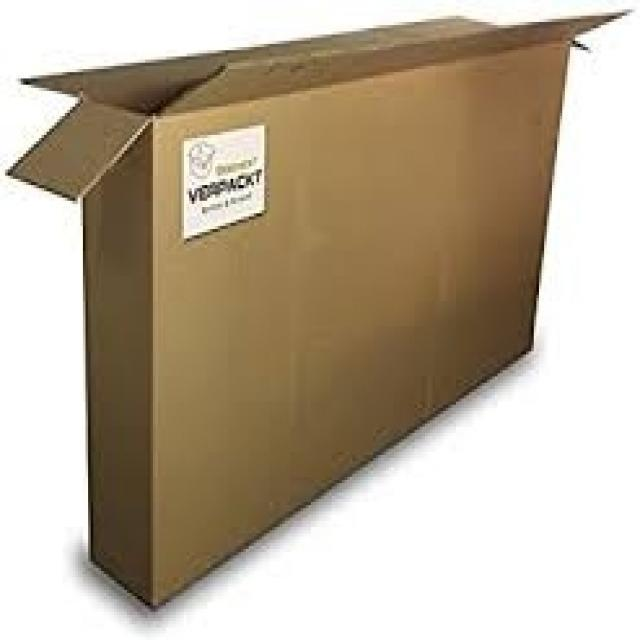cardboard paper: (8, 13, 625, 606)
